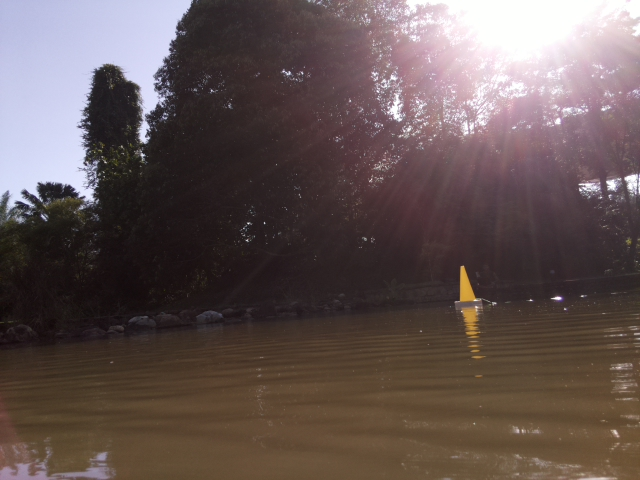checkpoint: (454, 263, 483, 307)
